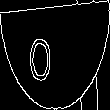O_N: (43, 27, 67, 83)
